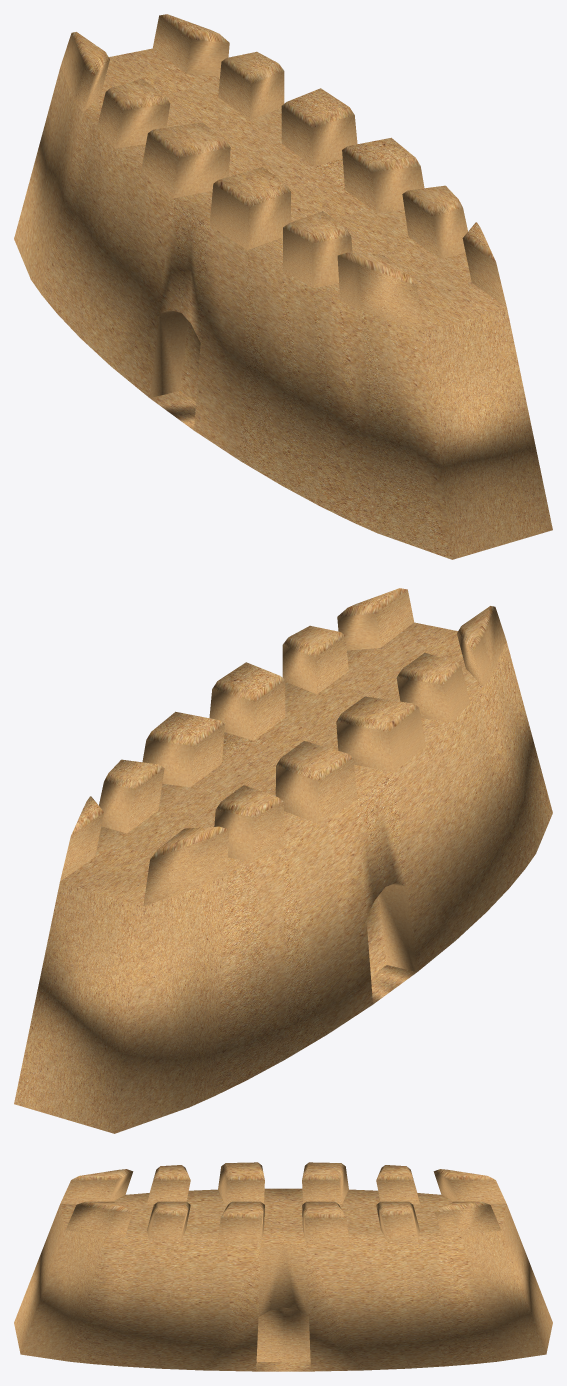
The model's file is Sand_Wall.fbx.
3 renders of one model, top to bottom at view 1: azimuth 30°, elevation 25°; view 2: azimuth 150°, elevation 25°; view 3: azimuth 270°, elevation 25°, orthographic. The views are drawn at different scales.
Parts seen in each view (by area): view 1: 큐브; view 2: 큐브; view 3: 큐브.
Boxes of the visible parts, box(x1,y1,x2,y2) form: 큐브: box(14, 14, 552, 559); 큐브: box(14, 588, 552, 1133); 큐브: box(14, 1162, 552, 1371).
Size of the model in its own units: 804 by 846 by 2725.
